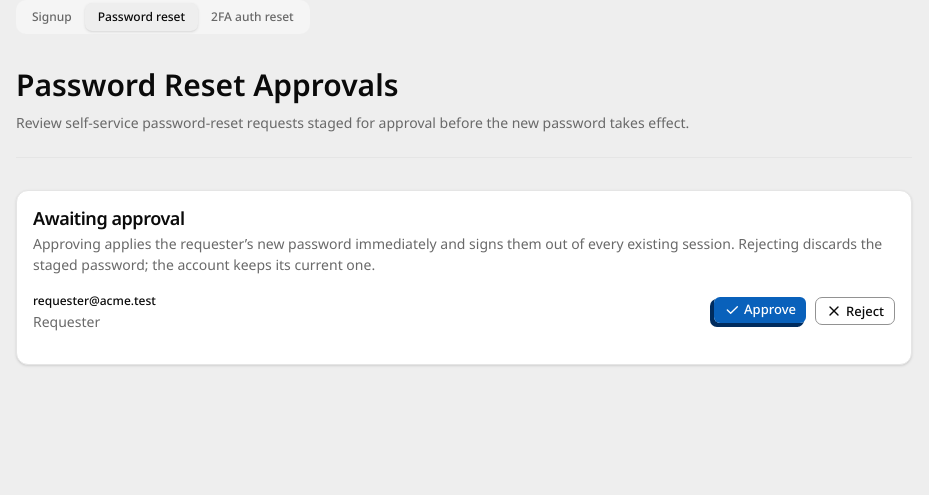
PasswordResetApprovalsPage — list and actions › POSTs approve and removes the row on success
This screenshot has width=929, height=495.
Click the button with test id "password-reset-approve-501".
click(760, 310)  # box [713,296,807,324]
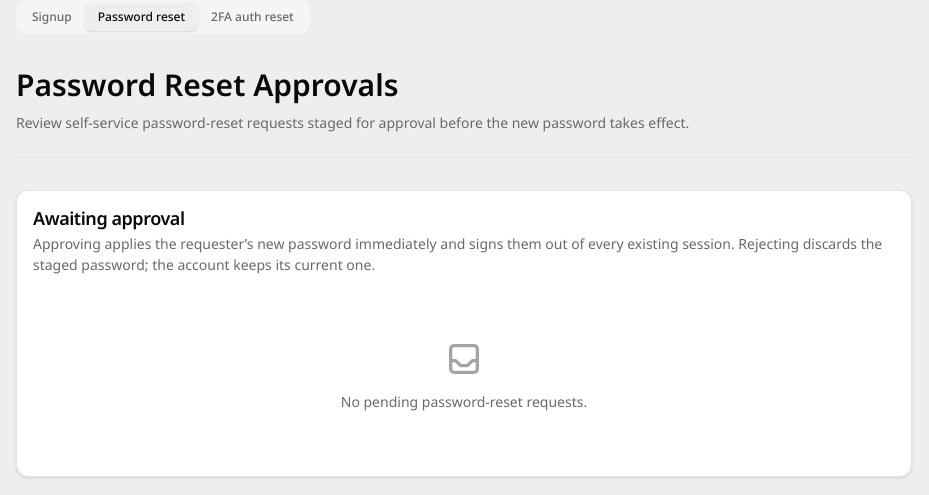
Now the list item with test id "password-reset-row-501" is gone
